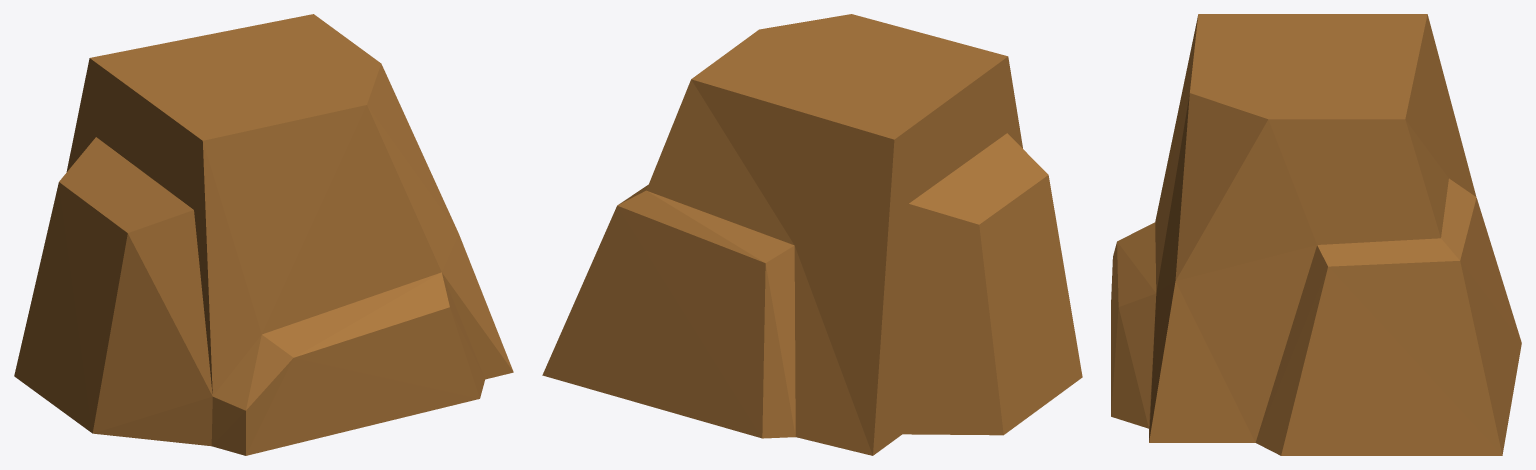
Rendered from SandStoneA.fbx.
3 renders of one model, left to right at view 1: azimuth 30°, elevation 25°; view 2: azimuth 150°, elevation 25°; view 3: azimuth 270°, elevation 25°, orthographic.
Parts seen in each view (by area): view 1: SandStoneA; view 2: SandStoneA; view 3: SandStoneA.
Boxes of the visible parts, x1,y1,x2,y2 form: SandStoneA: (14,14,513,455); SandStoneA: (542,14,1082,455); SandStoneA: (1111,14,1521,455).
Bounding box in the file's own units: 54.2 × 36.27 × 47.01.
